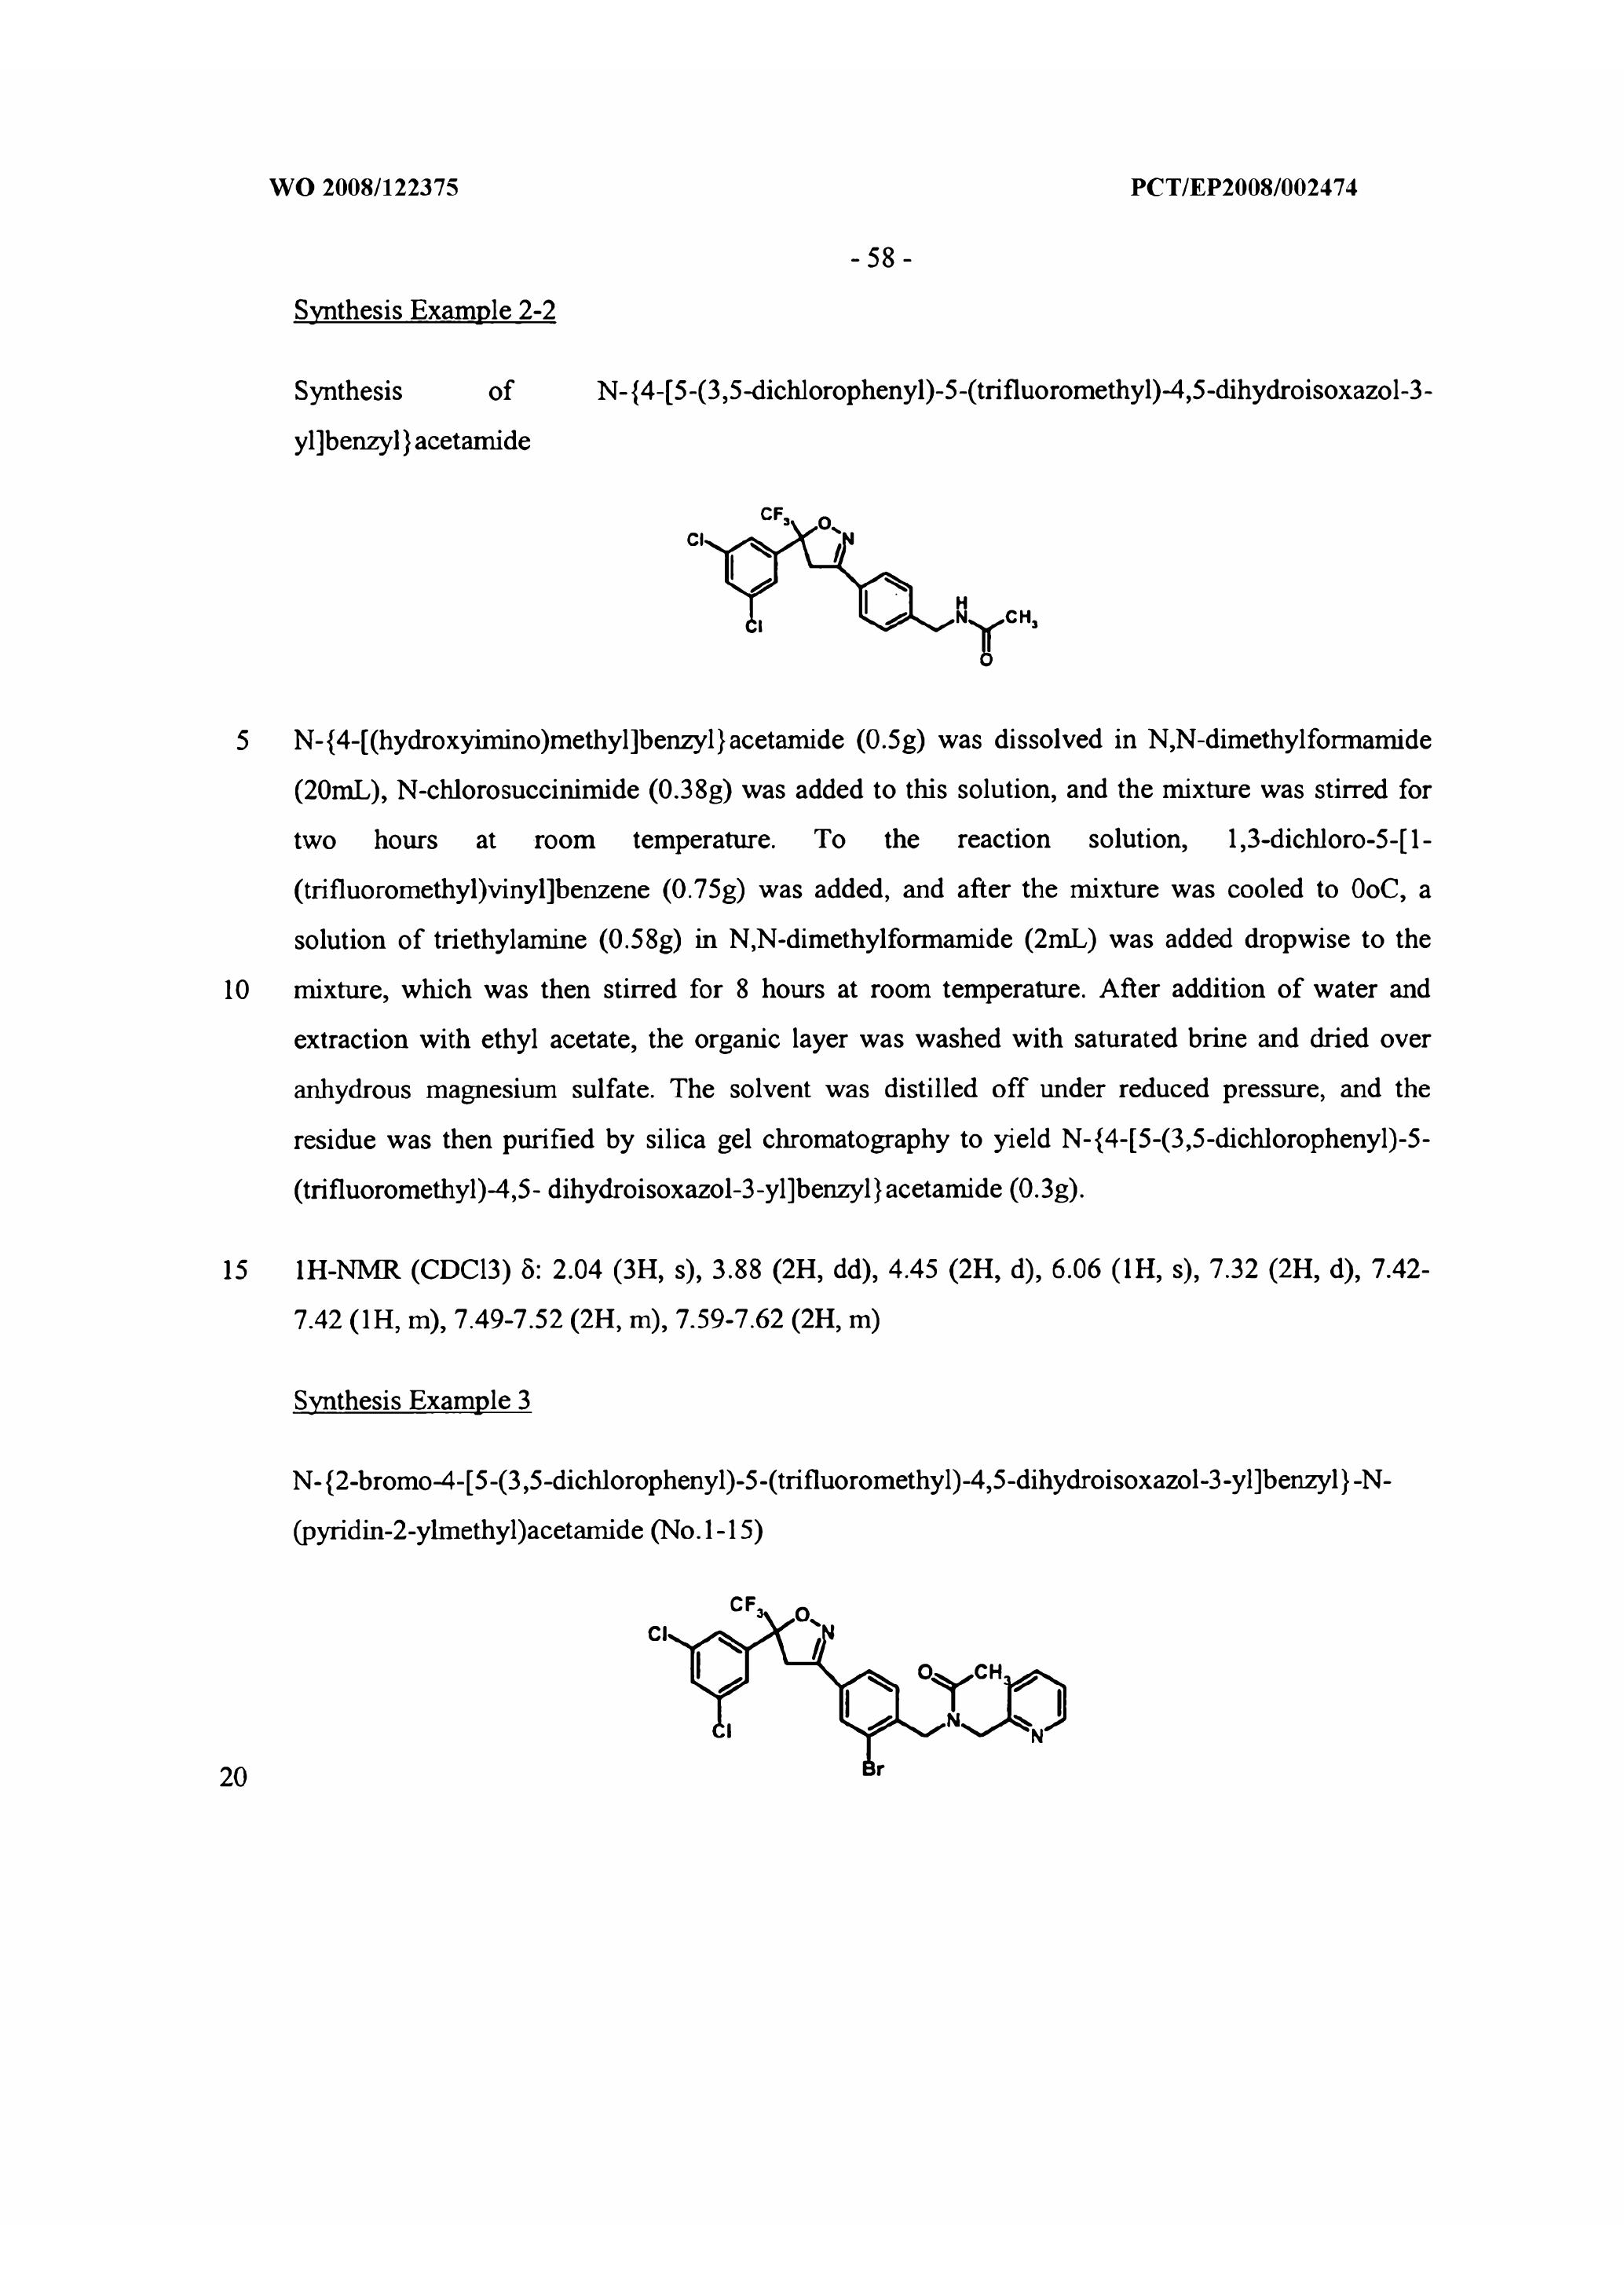relevant-structures: (599, 1566, 1206, 1934), (652, 410, 1158, 710)
